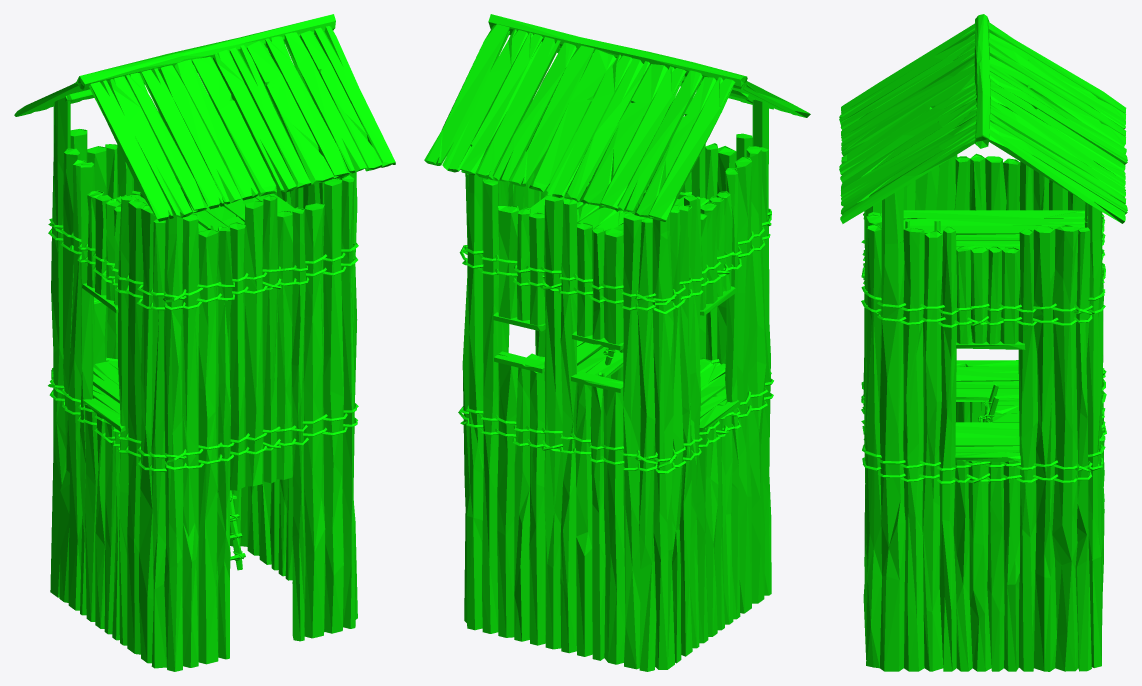
File: SM_Palisade_Tower_A.fbx
3 views of the same model, side by side, from view 1: azimuth 30°, elevation 25°; view 2: azimuth 150°, elevation 25°; view 3: azimuth 270°, elevation 25° (orthographic). The views are drawn at different scales.
Visible parts, largest first — view 1: palisade-tower-a; view 2: palisade-tower-a; view 3: palisade-tower-a.
Boxes of the visible parts, x1,y1,x2,y2 form: palisade-tower-a: [14, 14, 395, 671]; palisade-tower-a: [424, 14, 810, 671]; palisade-tower-a: [839, 14, 1127, 671].
Size of the model in its own units: 4.98 by 10.51 by 5.
